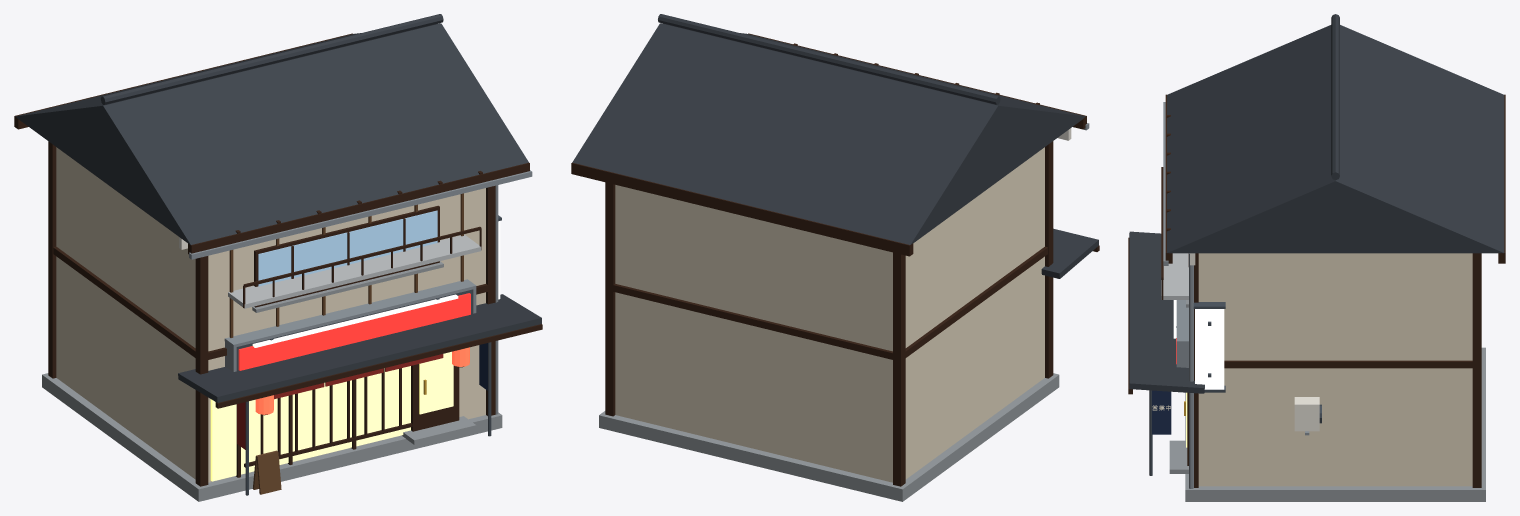
File: shop_ramen_2f.glb
The picture shows the model from 3 angles, left to right: view 1: azimuth 30°, elevation 25°; view 2: azimuth 150°, elevation 25°; view 3: azimuth 270°, elevation 25°; orthographic projection. The views are drawn at different scales.
Parts seen in each view (by area): view 1: roof, body.004, shop_glass.004, eave, base.004, win_glass.009, sign_face.004, balcony_slab.009, ridge, eave_front, sign_rim_top.004, post.016 (+16 smaller); view 2: body.004, roof, base.004, eave_back, beam.011, ridge, post.017, post.019, post.016, eave; view 3: roof, body.004, eave, base.004, blade_board, post.019, beam.011, ridge, balcony_slab.009, downpipe, ac_body.008, nobori_flag.001 (+4 smaller).
Boxes of the visible parts, <box> form: roof: <box>15,23,528,245</box>; body.004: <box>56,147,485,482</box>; shop_glass.004: <box>210,366,410,481</box>; eave: <box>178,294,541,402</box>; base.004: <box>42,373,502,501</box>; win_glass.009: <box>258,210,437,286</box>; sign_face.004: <box>238,293,470,370</box>; balcony_slab.009: <box>228,234,481,308</box>; ridge: <box>101,14,443,104</box>; eave_front: <box>188,162,529,254</box>; sign_rim_top.004: <box>224,279,476,347</box>; post.016: <box>195,256,208,486</box>; body.004: <box>615,147,1044,482</box>; roof: <box>572,23,1085,244</box>; base.004: <box>599,373,1059,501</box>; eave_back: <box>571,162,913,256</box>; beam.011: <box>613,246,1047,359</box>; ridge: <box>658,14,1000,104</box>; post.017: <box>893,252,905,486</box>; post.019: <box>605,182,615,416</box>; post.016: <box>1045,141,1053,378</box>; eave: <box>1041,228,1098,278</box>; roof: <box>1167,25,1504,253</box>; body.004: <box>1198,253,1472,486</box>; eave: <box>1129,231,1204,393</box>; base.004: <box>1185,347,1485,501</box>; blade_board: <box>1195,309,1224,389</box>; post.019: <box>1472,253,1481,487</box>; beam.011: <box>1224,360,1472,368</box>; ridge: <box>1331,14,1339,180</box>; balcony_slab.009: <box>1161,253,1188,299</box>; downpipe: <box>1189,253,1193,488</box>; ac_body.008: <box>1294,397,1319,431</box>; nobori_flag.001: <box>1152,390,1171,434</box>.
Bounding box in the file's own units: 8.5 × 8.4 × 8.5.
